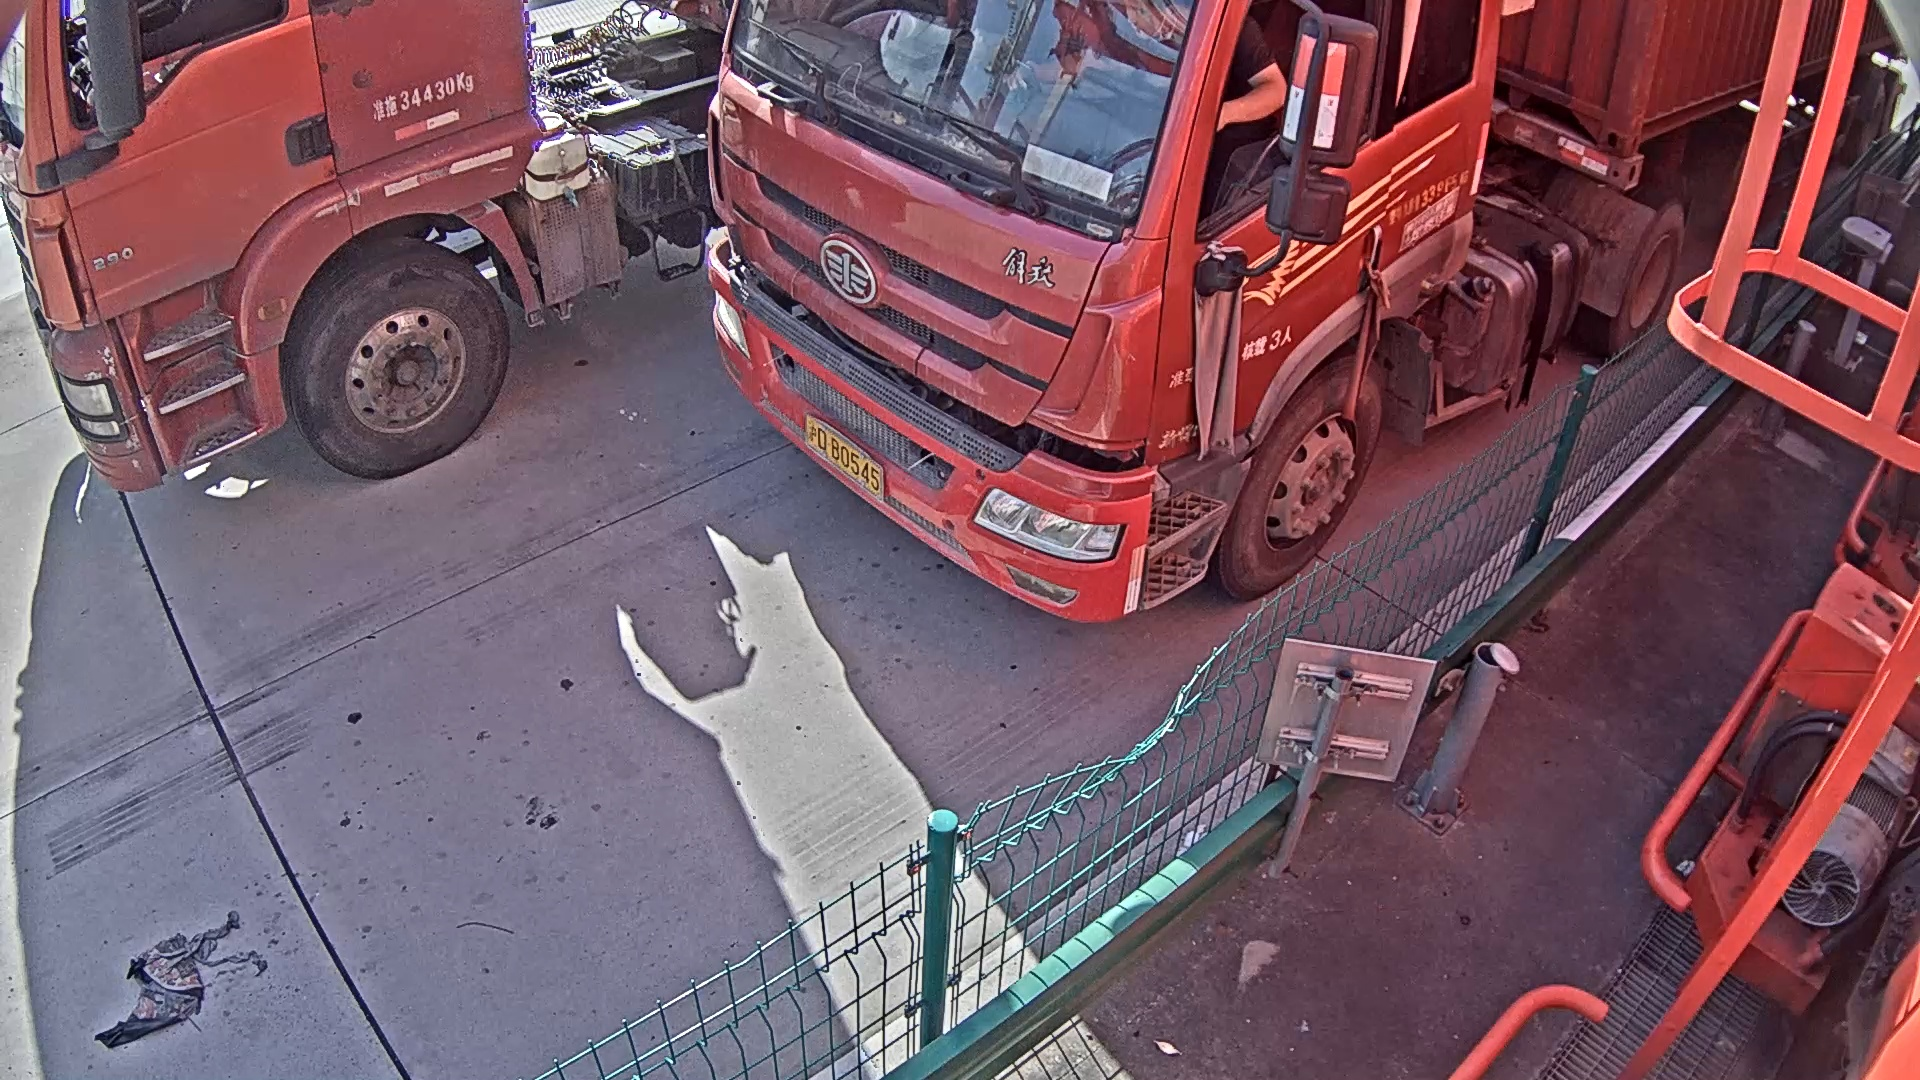head: (703, 1, 1504, 623)
plate: (796, 413, 884, 500)
